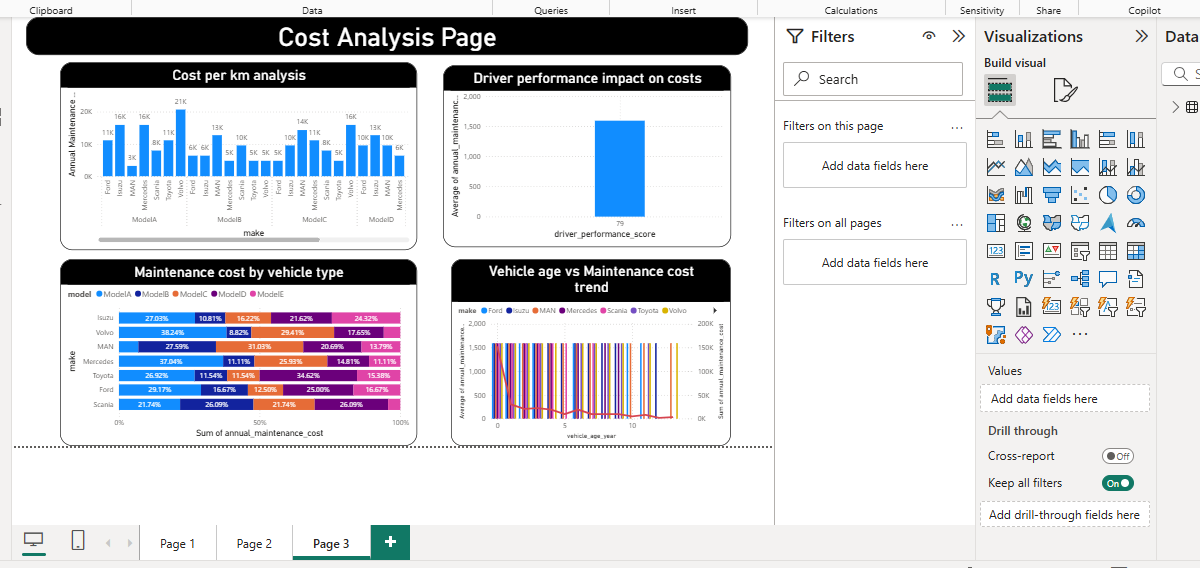

The dashboard page shown, as its layout file describes it:
{"tool":"powerbi","page":{"name":"Page 3","canvas":[1280,720],"ordinal":2},"visuals":[{"type":"columnChart","title":"Cost per km analysis","fields":{"Category":["fleet_project_datasets_fixed_new.model","fleet_project_datasets_fixed_new.make"],"Y":["Sum(fleet_project_datasets_fixed_new.annual_maintenance_cost)"]},"box":[80.6,75.6,599.7,315.8],"z":0},{"type":"hundredPercentStackedBarChart","title":"Maintenance cost by vehicle type","fields":{"Category":["fleet_project_datasets_fixed_new.make"],"Y":["Sum(fleet_project_datasets_fixed_new.annual_maintenance_cost)"],"Series":["fleet_project_datasets_fixed_new.model"]},"box":[80.6,406.5,599.7,314.1],"z":1000},{"type":"lineClusteredColumnComboChart","title":"Driver performance impact on costs","fields":{"Category":["fleet_project_datasets_fixed_new.driver_performance_score"],"Y":["Avg(fleet_project_datasets_fixed_new.annual_maintenance_cost)"]},"box":[724,80.6,483.8,305.7],"z":2000},{"type":"lineClusteredColumnComboChart","title":"Vehicle age vs Maintenance cost trend","fields":{"Category":["fleet_project_datasets_fixed_new.vehicle_age_year"],"Y":["Avg(fleet_project_datasets_fixed_new.annual_maintenance_cost)"],"Series":["fleet_project_datasets_fixed_new.make"],"Y2":["Sum(fleet_project_datasets_fixed_new.annual_maintenance_cost)1"]},"box":[737.4,406.5,470.3,314.1],"z":3000},{"type":"textbox","title":"Cost Analysis Page","box":[23.5,0,1212.8,63.8],"z":3001}]}

Visuals, with their boxes on the page's 1280x720 design canvas (x1, y1, x2, y2). These are canvas units, not pixel positions in the 1200x568 screenshot, which may show the page scaled, cropped or inside an application window:
"Cost per km analysis" columnChart: 81 76 680 391
"Maintenance cost by vehicle type" hundredPercentStackedBarChart: 81 406 680 721
"Driver performance impact on costs" lineClusteredColumnComboChart: 724 81 1208 386
"Vehicle age vs Maintenance cost trend" lineClusteredColumnComboChart: 737 406 1208 721
"Cost Analysis Page" textbox: 24 0 1236 64
